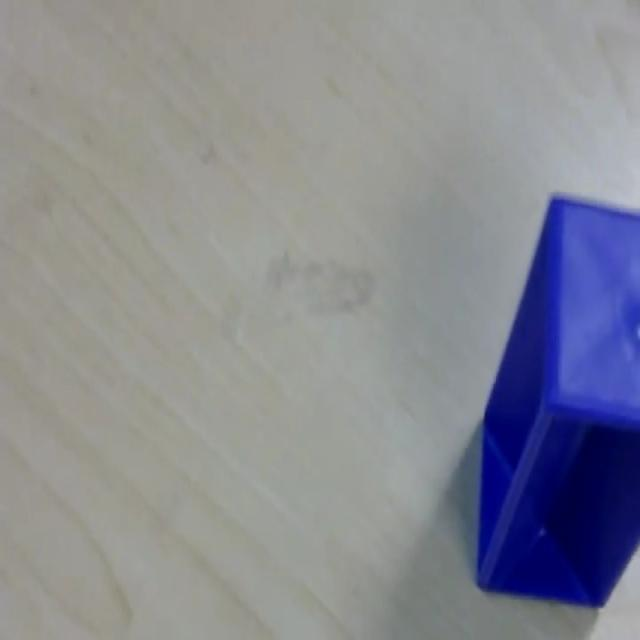blue_block: (474, 191, 639, 608)
